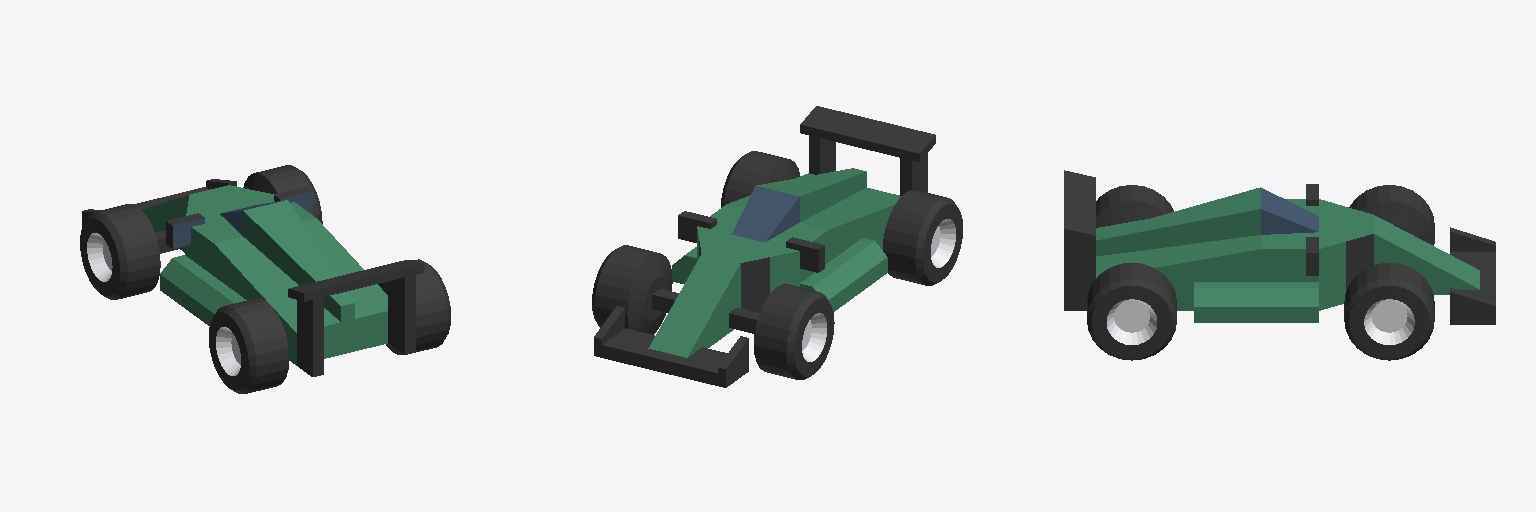
File: raceCarGreen.obj
3 renders of one model, left to right at view 1: azimuth 30°, elevation 25°; view 2: azimuth 150°, elevation 25°; view 3: azimuth 270°, elevation 25°, orthographic.
Parts seen in each view (by area): view 1: body, wheelFrontLeft, wheelBackLeft, wheelBackRight, wheelFrontRight; view 2: body, wheelFrontLeft, wheelBackLeft, wheelFrontRight, wheelBackRight; view 3: body, wheelFrontRight, wheelBackRight, wheelFrontLeft, wheelBackLeft.
Boxes of the visible parts, x1,y1,x2,y2 form: body: [82, 179, 423, 376]; wheelFrontLeft: [80, 204, 160, 299]; wheelBackLeft: [209, 298, 288, 393]; wheelBackRight: [378, 259, 450, 354]; wheelFrontRight: [243, 165, 322, 223]; body: [594, 106, 935, 387]; wheelFrontLeft: [754, 284, 834, 379]; wheelBackLeft: [883, 190, 962, 285]; wheelFrontRight: [592, 245, 672, 334]; wheelBackRight: [721, 151, 799, 207]; body: [1064, 170, 1495, 324]; wheelFrontRight: [1344, 262, 1434, 360]; wheelBackRight: [1087, 263, 1176, 360]; wheelFrontLeft: [1349, 185, 1434, 245]; wheelBackLeft: [1096, 185, 1173, 227].
Size of the model in its own units: 0.7288 by 0.397 by 1.35.